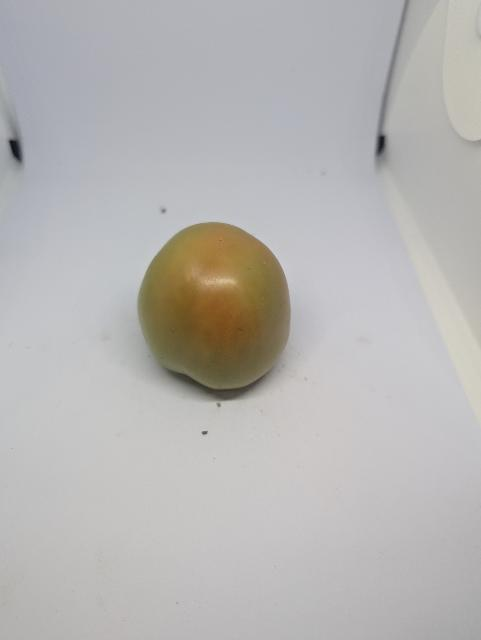breaker: (138, 223, 291, 389)
